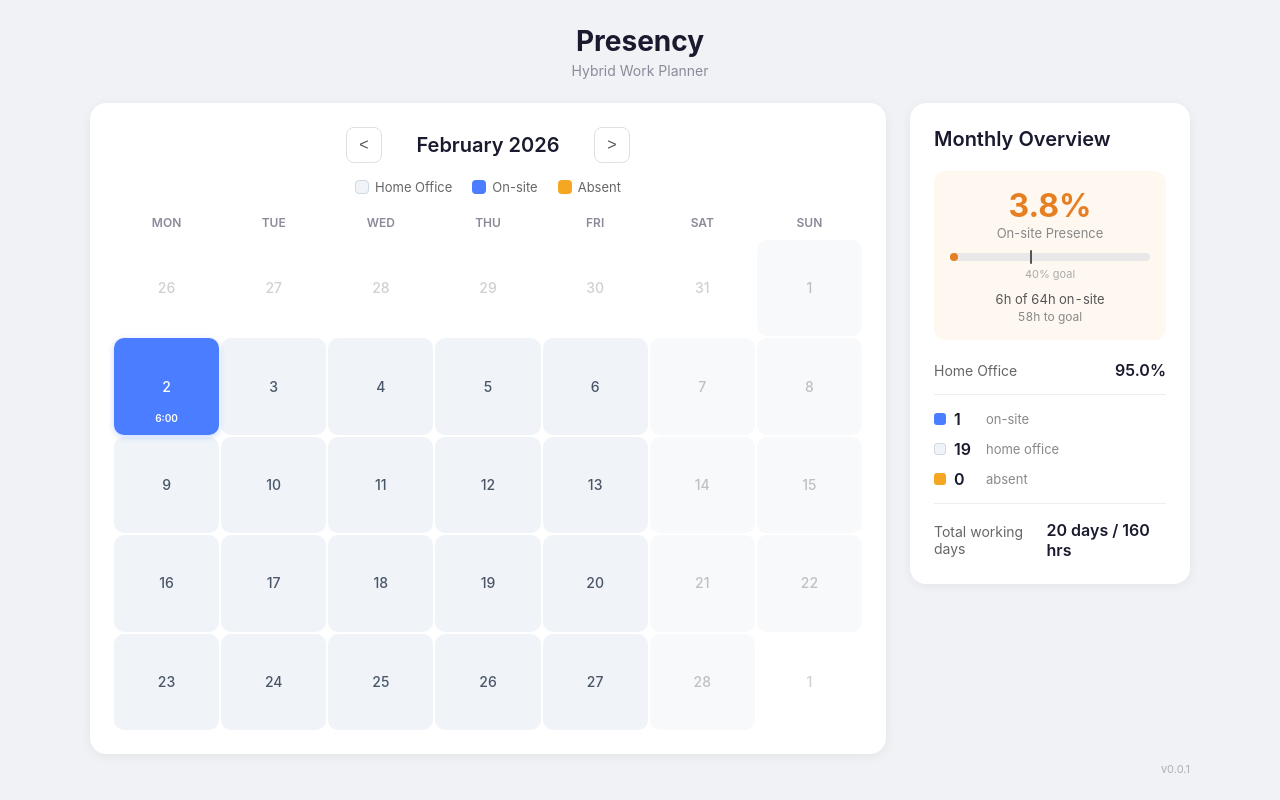
Test: App integration › cycling an on-site day to absent and back resets hours to 8
The image size is (1280, 800).
Expected: the text with class "day-hours-value" reads "6:00", [155, 412, 178, 424]
Step 1. Click the element with class "status-on-site" → (167, 387), box [114, 338, 219, 435]
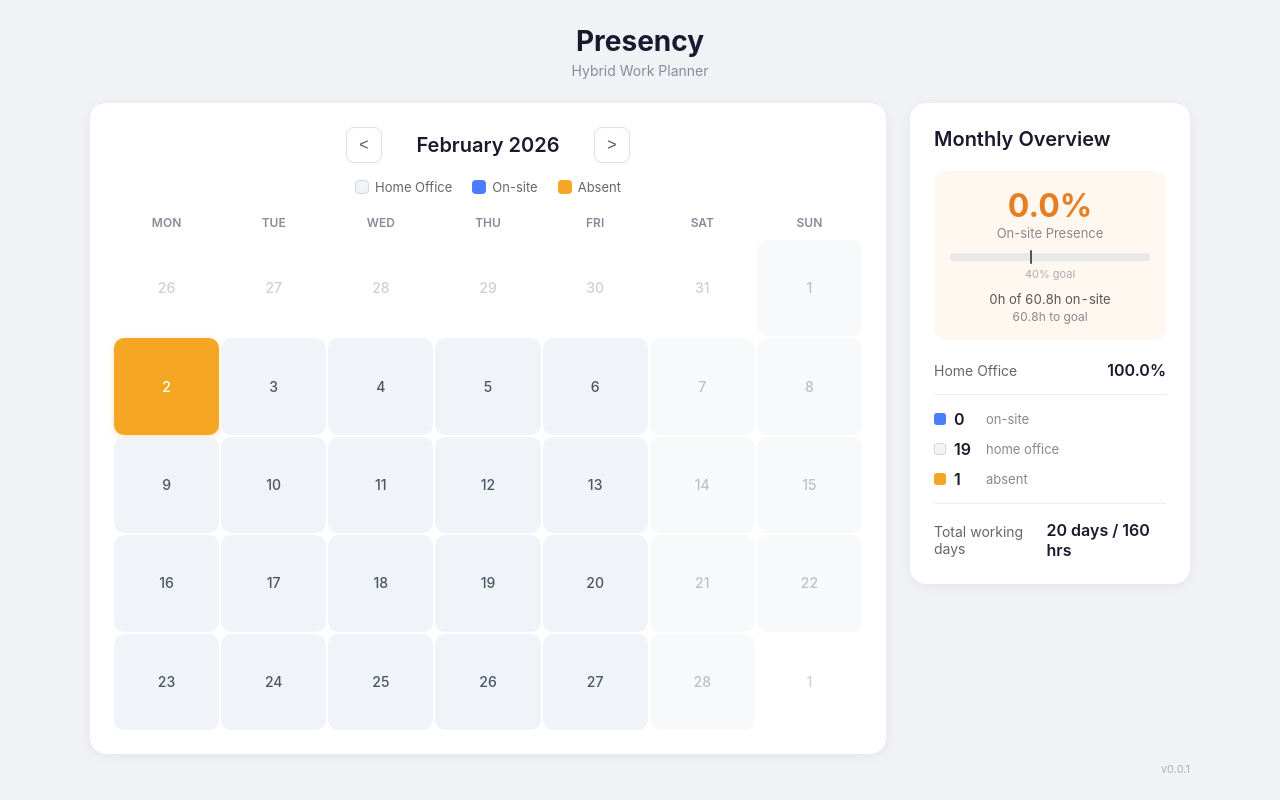
Step 2. Click the element with class "status-on-site" → (167, 387), box [114, 338, 219, 435]
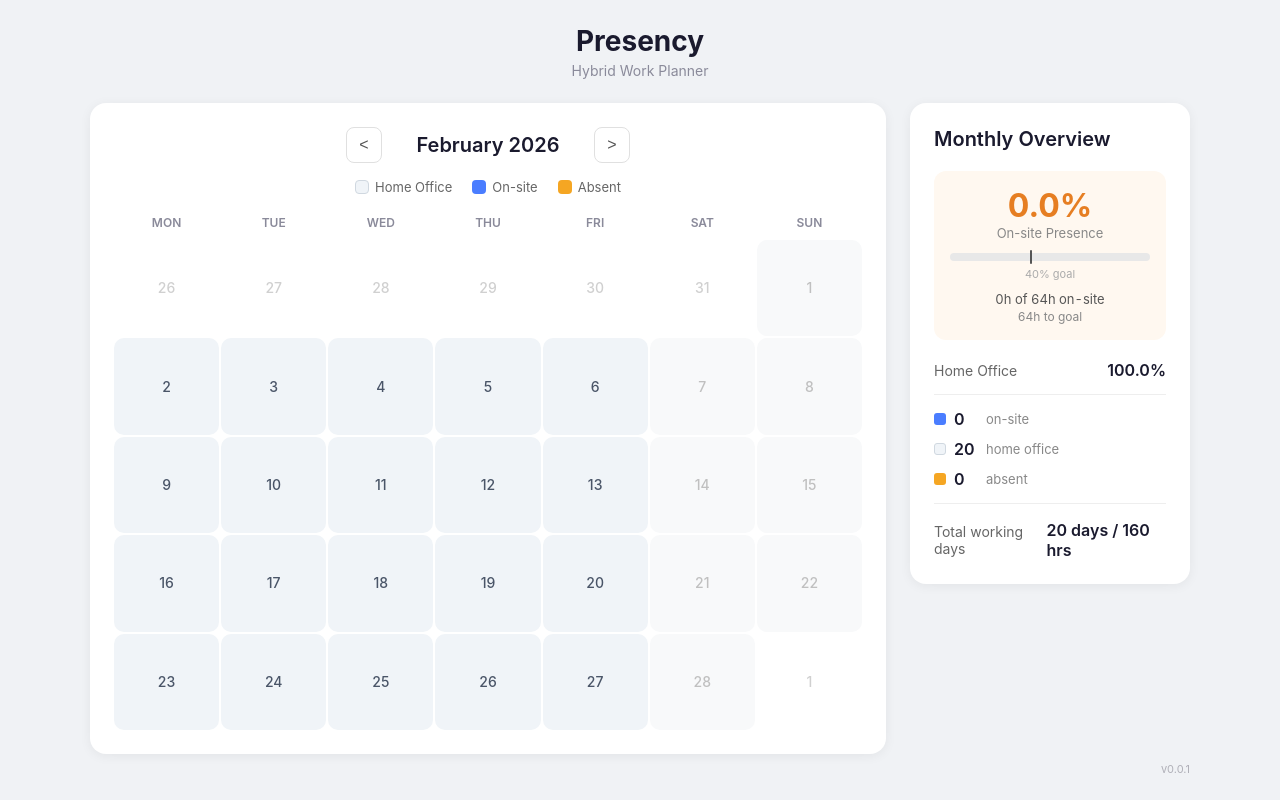
Step 3. Click the element with class "status-on-site" → (167, 387), box [114, 338, 219, 435]
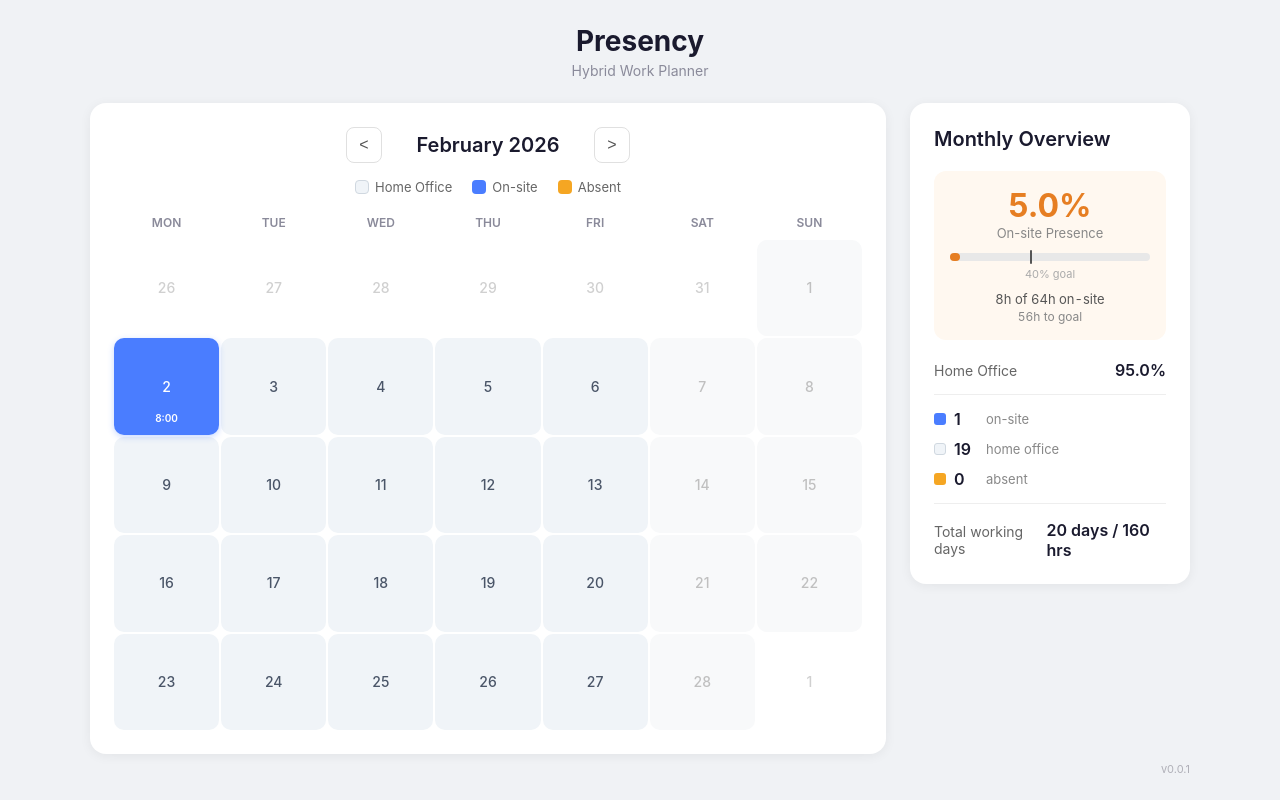
Expected: the text "on-site" is shown, [986, 411, 1029, 427]
Now the text with class "day-hours-value" reads "8:00", box [155, 412, 178, 424]
